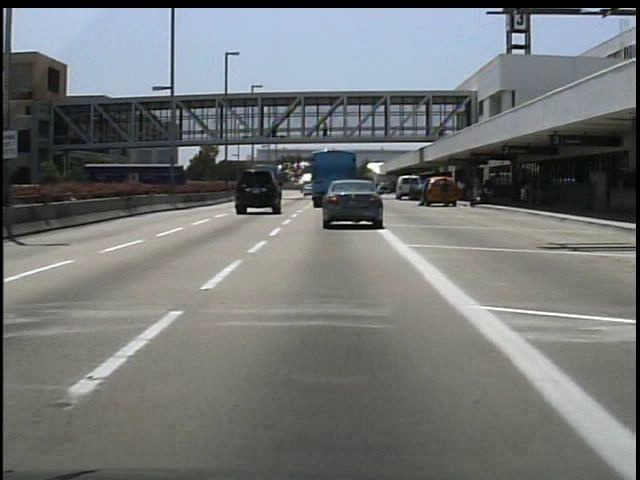person: (439, 176, 455, 211), (319, 118, 333, 144), (269, 116, 284, 138)
